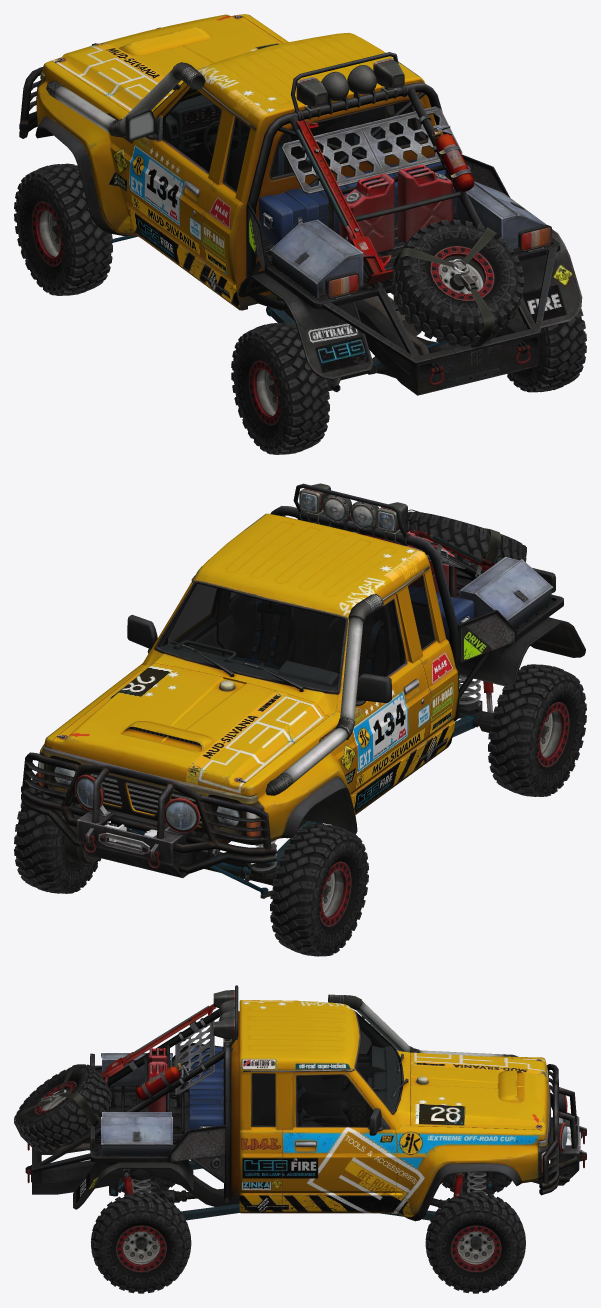
File: patrol.glb
3 views of the same model, one above another, from view 1: azimuth 30°, elevation 25°; view 2: azimuth 150°, elevation 25°; view 3: azimuth 270°, elevation 25° (orthographic). The views are drawn at different scales.
Visible parts, largest first — view 1: Chassis_Chassis.004_0, prochee.001_Chassis.004_0, door_lf_ok_Chassis.004_0, bonnet_ok_Chassis.004_0, zapaska.001_zapaska.002_0, wheel.003_zapaska.002_0, wheel.004_zapaska.002_0, prochee.001_prochee.005_0, glass_glass.001_0, wheel.002_zapaska.002_0, prochee.001_prochee.028_0, door_lf_glass_glass.001_0 (+11 smaller); view 2: Chassis_Chassis.004_0, bonnet_ok_Chassis.004_0, glass_glass.001_0, prochee.001_prochee.031_0, prochee.001_Chassis.004_0, door_lf_ok_Chassis.004_0, wheel.004_zapaska.002_0, wheel.003_zapaska.002_0, prochee.001_prochee.021_0, wheel.001_zapaska.002_0, Chassis_Chassis.003_0, prochee.001_prochee.026_0 (+15 smaller); view 3: Chassis_Chassis.004_0, prochee.001_Chassis.004_0, door_rf_ok_Chassis.004_0, bonnet_ok_Chassis.004_0, wheel.002_zapaska.002_0, wheel.001_zapaska.002_0, prochee.001_prochee.005_0, zapaska.001_zapaska.002_0, glass_glass.001_0, door_rf_glass_glass.001_0, prochee.001_prochee.031_0, prochee.001_prochee.016_0 (+11 smaller).
Part boxes in pixels (x1,y1,x2,y2): Chassis_Chassis.004_0: [35, 14, 582, 379]; prochee.001_Chassis.004_0: [246, 52, 560, 365]; door_lf_ok_Chassis.004_0: [125, 85, 223, 285]; bonnet_ok_Chassis.004_0: [51, 14, 282, 112]; zapaska.001_zapaska.002_0: [391, 219, 523, 346]; wheel.003_zapaska.002_0: [231, 322, 329, 454]; wheel.004_zapaska.002_0: [14, 163, 112, 295]; prochee.001_prochee.005_0: [263, 206, 551, 395]; glass_glass.001_0: [184, 89, 425, 190]; wheel.002_zapaska.002_0: [507, 308, 586, 392]; prochee.001_prochee.028_0: [296, 58, 404, 119]; door_lf_glass_glass.001_0: [164, 89, 220, 171]; Chassis_Chassis.004_0: [37, 513, 585, 844]; bonnet_ok_Chassis.004_0: [52, 663, 329, 794]; glass_glass.001_0: [157, 576, 434, 690]; prochee.001_prochee.031_0: [21, 752, 276, 877]; prochee.001_Chassis.004_0: [168, 483, 563, 721]; door_lf_ok_Chassis.004_0: [352, 593, 431, 812]; wheel.004_zapaska.002_0: [270, 824, 368, 956]; wheel.003_zapaska.002_0: [488, 664, 586, 796]; prochee.001_prochee.021_0: [223, 594, 393, 677]; wheel.001_zapaska.002_0: [14, 772, 101, 893]; Chassis_Chassis.003_0: [158, 584, 433, 669]; prochee.001_prochee.026_0: [265, 594, 383, 795]; Chassis_Chassis.004_0: [73, 1000, 550, 1221]; prochee.001_Chassis.004_0: [14, 985, 408, 1202]; door_rf_ok_Chassis.004_0: [283, 1071, 397, 1210]; bonnet_ok_Chassis.004_0: [410, 1052, 548, 1135]; wheel.002_zapaska.002_0: [91, 1192, 191, 1293]; wheel.001_zapaska.002_0: [425, 1192, 525, 1293]; prochee.001_prochee.005_0: [25, 1069, 542, 1206]; zapaska.001_zapaska.002_0: [15, 1064, 112, 1152]; glass_glass.001_0: [252, 1014, 401, 1125]; door_rf_glass_glass.001_0: [297, 1075, 372, 1126]; prochee.001_prochee.031_0: [536, 1064, 586, 1195]; prochee.001_prochee.016_0: [109, 1160, 493, 1220].
Size of the model in its own units: 3 by 2.98 by 6.48.
23 materials, 21 textured.
